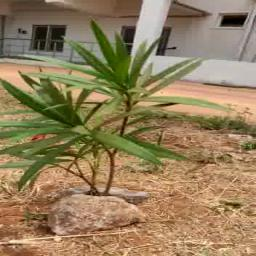OLEANDER: (4, 21, 249, 183)
